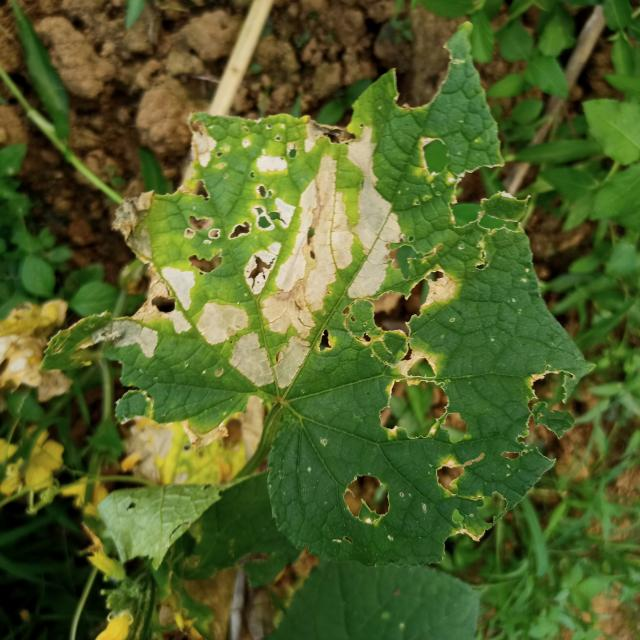disease_cucumber: (370, 131, 555, 534), (130, 93, 407, 359)
